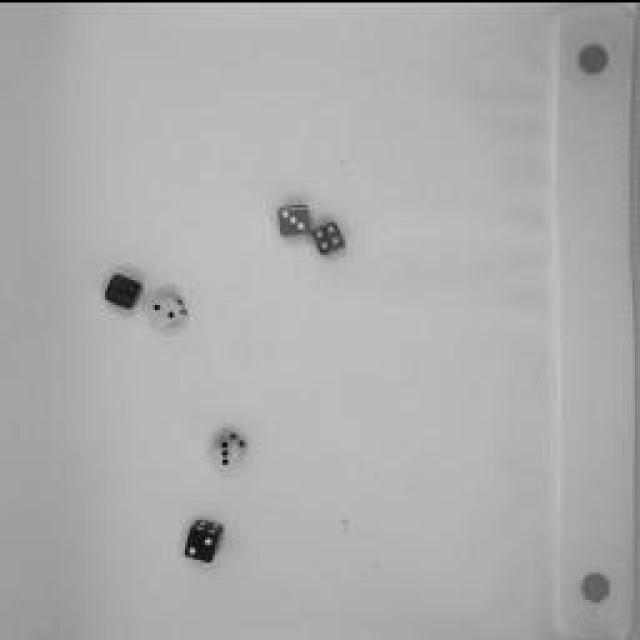dice_2: (185, 514, 225, 558), (148, 289, 188, 326)
dice_3: (209, 425, 249, 470), (276, 198, 316, 238)
dice_4: (311, 216, 349, 256)
dice_6: (104, 272, 144, 308)
